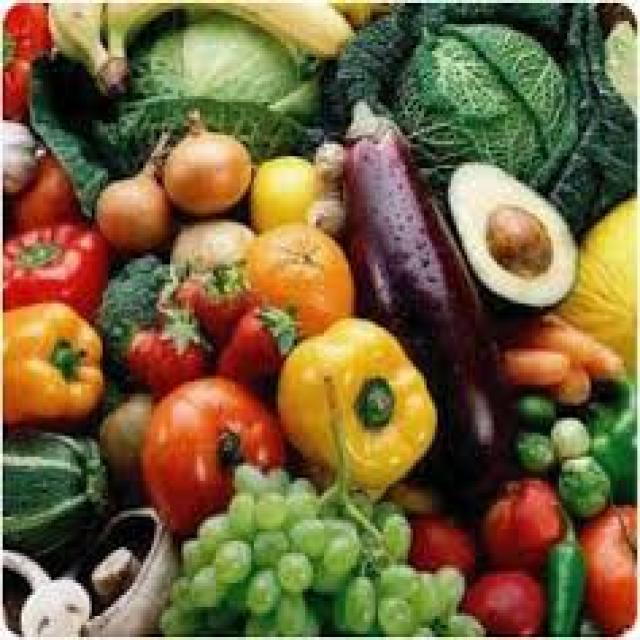organic waste: (318, 0, 637, 240), (343, 93, 508, 496), (24, 3, 319, 210), (89, 12, 319, 153), (394, 18, 572, 186), (46, 0, 375, 87), (273, 309, 432, 487), (138, 372, 284, 535), (443, 156, 578, 306), (103, 0, 348, 72), (556, 186, 638, 367), (0, 427, 103, 565), (235, 220, 348, 336), (0, 297, 97, 423), (0, 214, 103, 312), (94, 126, 176, 246), (162, 102, 251, 210), (97, 250, 165, 382), (575, 502, 637, 634), (476, 475, 564, 568), (508, 312, 621, 378), (581, 372, 637, 504), (211, 304, 294, 384), (456, 562, 540, 637), (0, 0, 49, 114), (248, 147, 318, 225), (143, 300, 205, 382), (481, 202, 551, 274), (186, 255, 243, 342), (97, 391, 149, 486), (543, 511, 583, 634), (5, 154, 73, 226), (405, 514, 475, 577), (168, 220, 251, 270), (105, 316, 162, 382), (556, 454, 605, 514), (500, 346, 567, 384), (0, 117, 35, 186), (318, 523, 356, 577), (511, 429, 554, 472), (208, 535, 248, 580), (203, 583, 243, 628), (545, 412, 586, 454), (248, 526, 289, 568), (189, 559, 224, 607), (154, 601, 200, 637), (346, 574, 372, 637), (162, 258, 197, 304), (548, 363, 589, 402), (372, 592, 410, 634), (246, 565, 278, 613), (248, 487, 281, 532), (432, 559, 462, 607), (408, 565, 432, 625), (513, 391, 554, 426), (284, 472, 313, 520), (224, 487, 251, 538), (372, 559, 410, 595), (438, 607, 483, 637), (305, 196, 346, 228), (273, 586, 302, 631), (381, 511, 408, 559), (178, 535, 211, 571), (275, 550, 308, 586), (313, 142, 343, 180), (227, 457, 259, 492), (372, 496, 400, 529), (167, 571, 192, 607), (195, 511, 224, 541), (243, 610, 275, 637), (346, 490, 372, 523), (265, 462, 289, 492), (332, 586, 348, 622), (286, 475, 308, 490)
